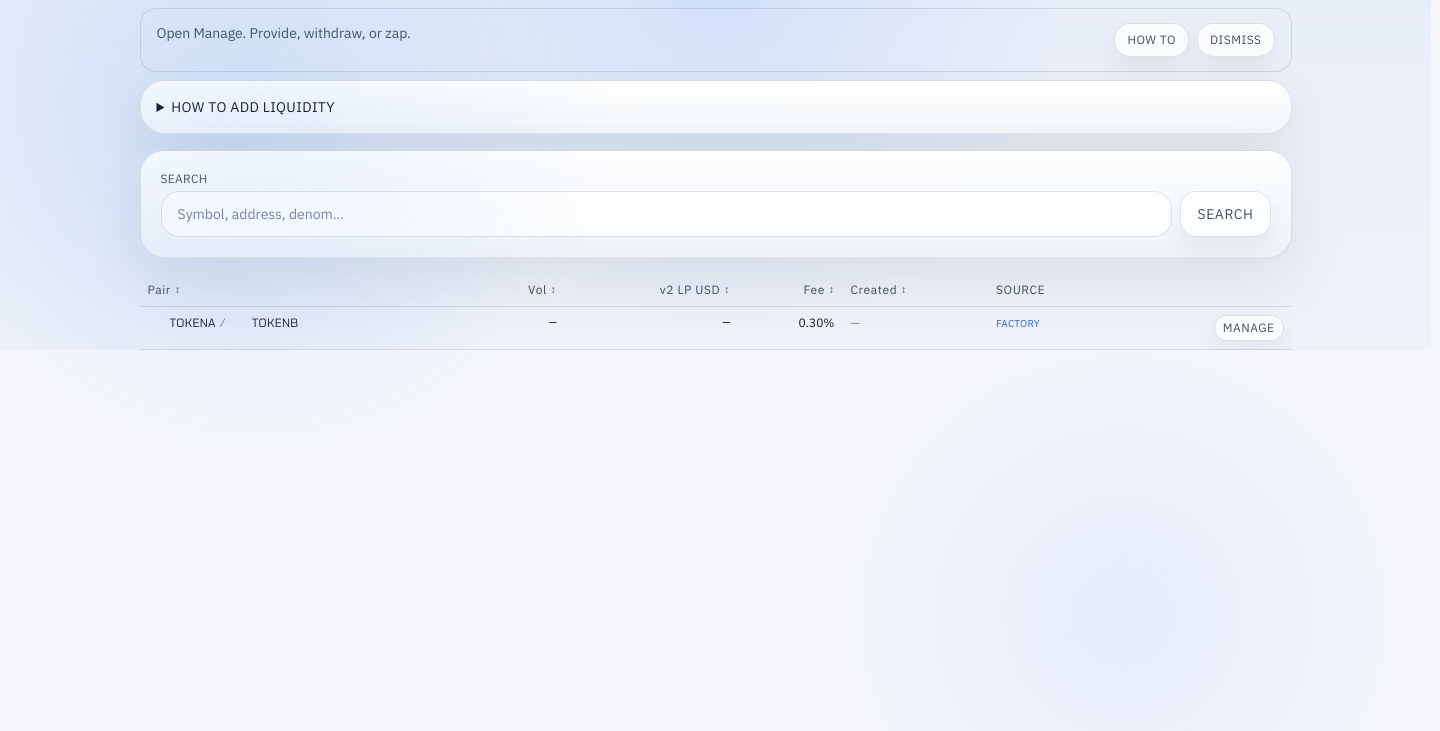
Scenario: PoolPage › pair Manage IA (GitLab #660) › T9: switching tabs unmounts the previous form
Click the button with test id "pool-row-manage": click(1249, 328) [1214,315,1284,341]
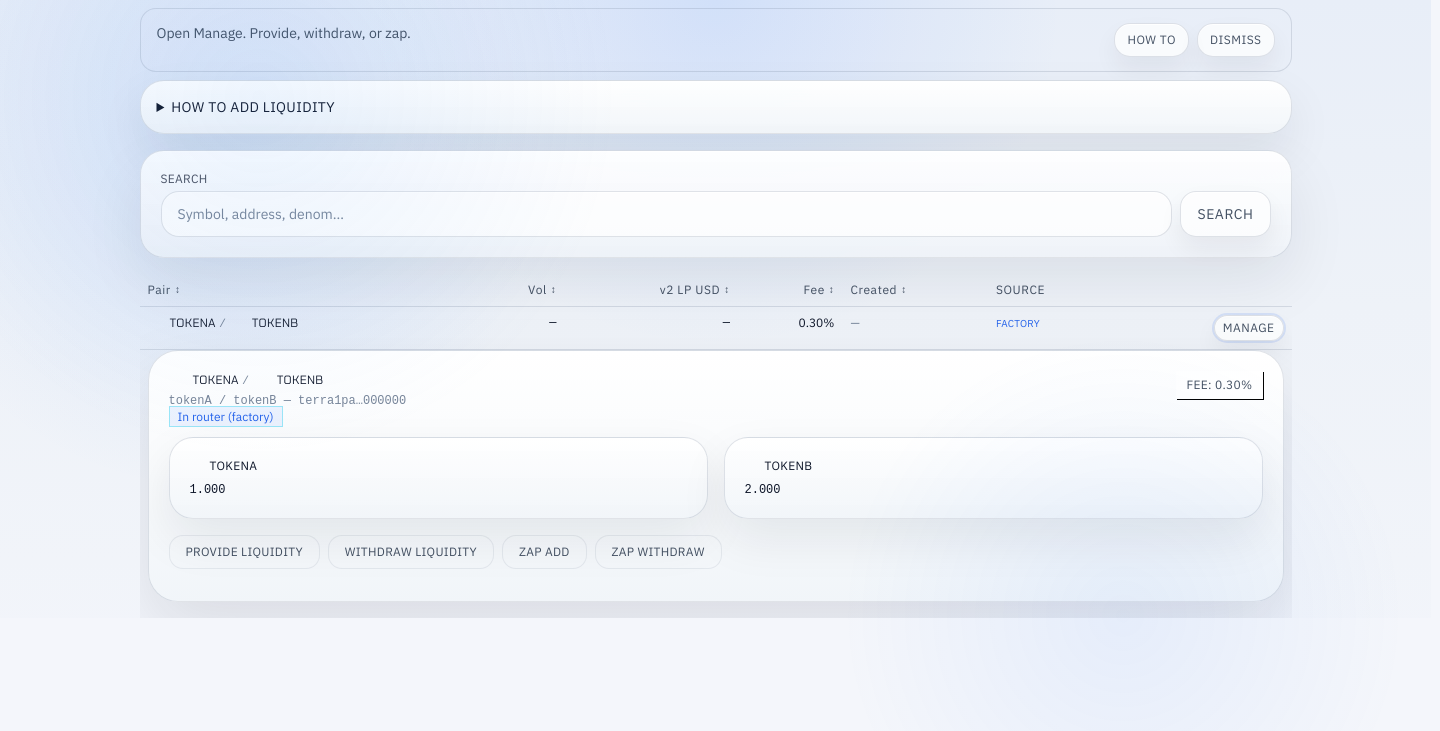
Expected: the element with test id "pool-manage-actions" is shown, [168,535,722,569]
Click the button with test id "pool-manage-tab-zap-add": click(544, 552) [502,535,587,569]
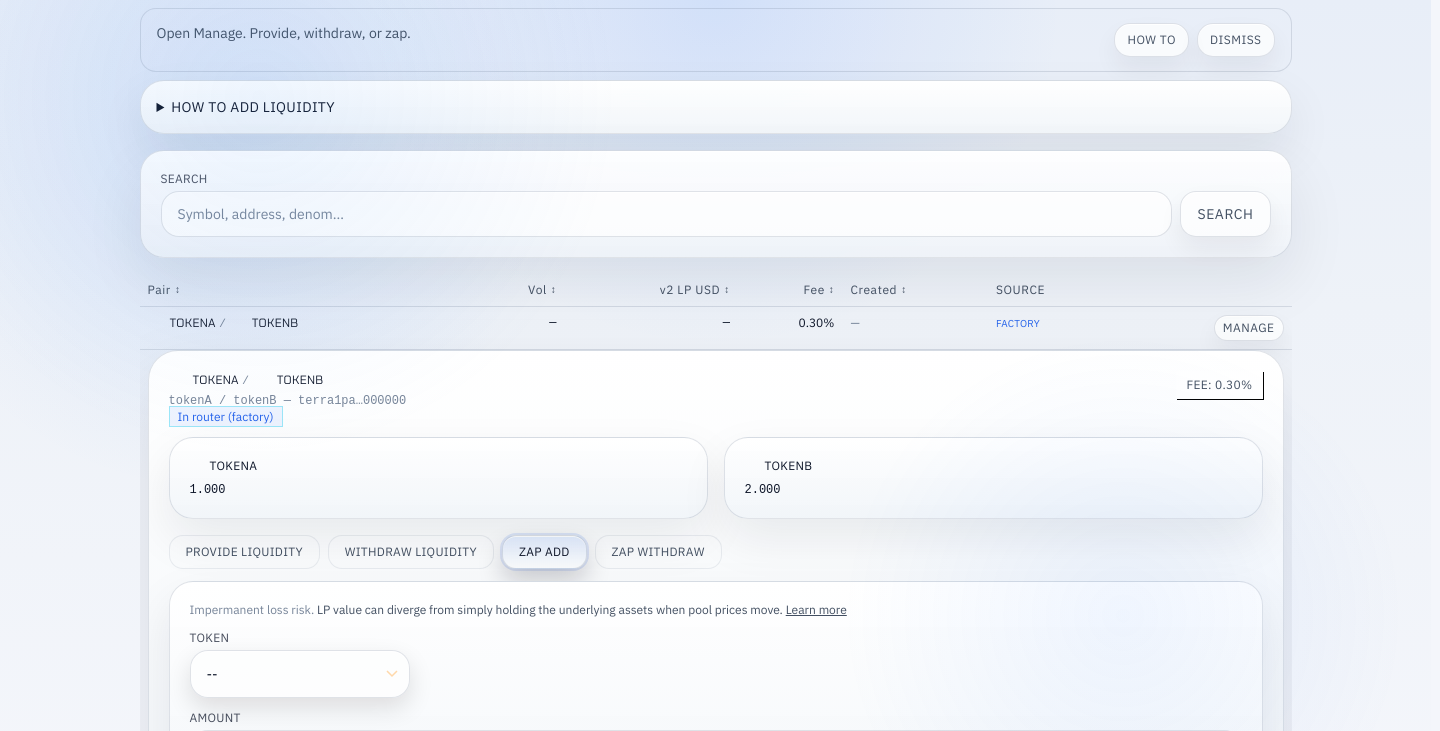
Click the button with test id "pool-manage-tab-provide": click(244, 552) [168,535,320,569]
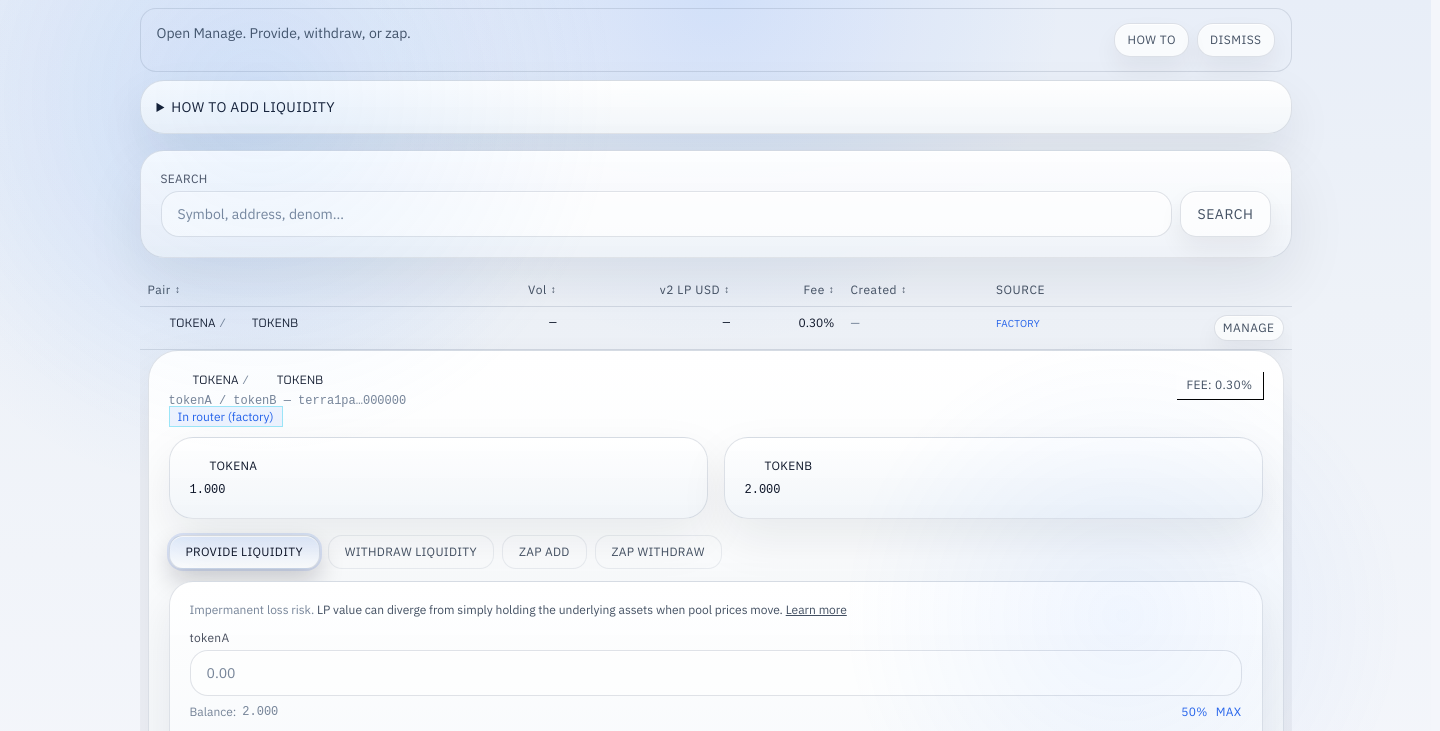
Expected: the field named "tokenA amount" is shown, [190,650,1242,696]
